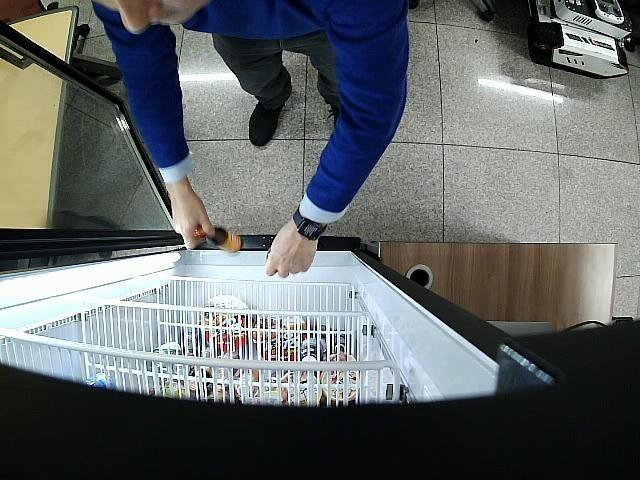17_vita500: (197, 223, 241, 254)
